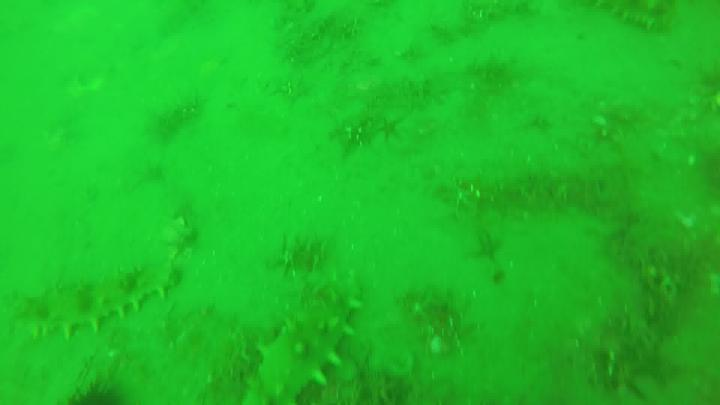holothurian: (243, 275, 372, 405), (17, 267, 181, 339), (580, 1, 674, 33)
